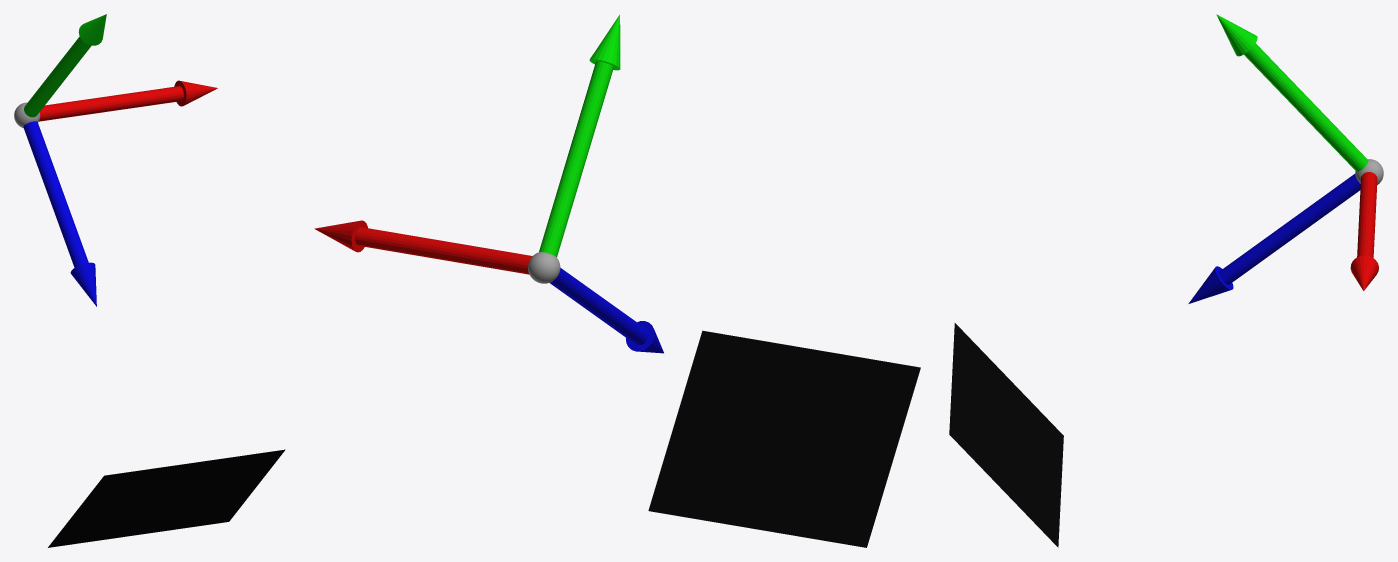
3 renders of one model, left to right at view 1: azimuth 30°, elevation 25°; view 2: azimuth 150°, elevation 25°; view 3: azimuth 270°, elevation 25°, orthographic. The views are drawn at different scales.
Size of the model in its own units: 0.2039 by 0.2946 by 0.2285.
